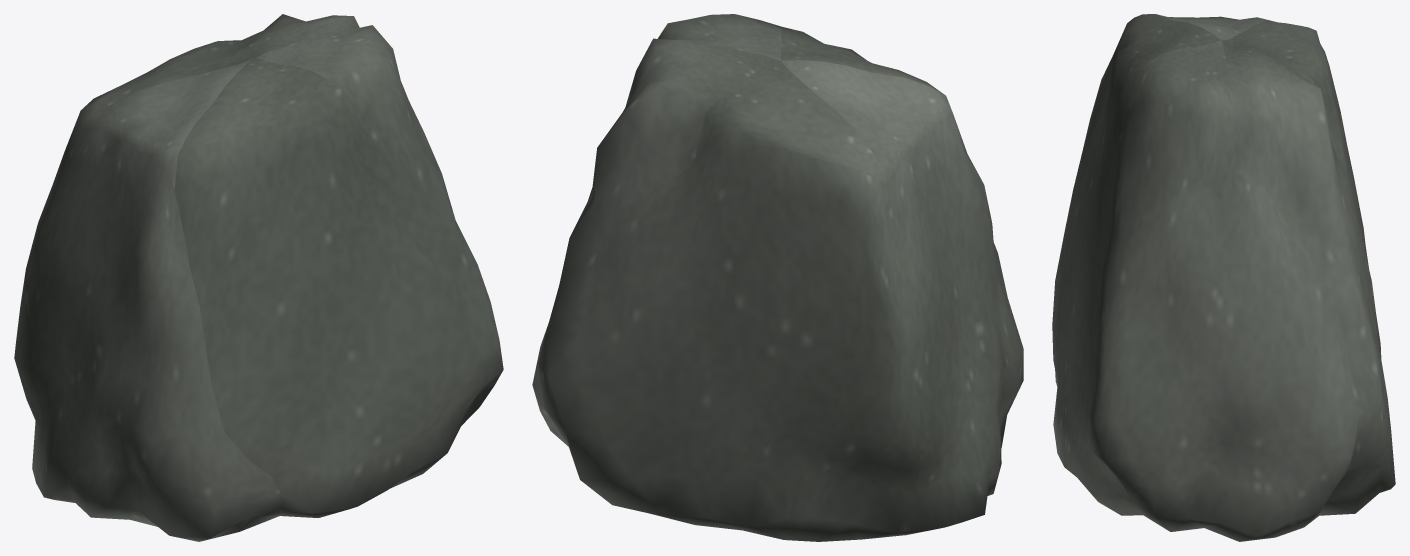
The model's file is NaturalRock_11_Trapezoid.fbx.
3 renders of one model, left to right at view 1: azimuth 30°, elevation 25°; view 2: azimuth 150°, elevation 25°; view 3: azimuth 270°, elevation 25°, orthographic. The views are drawn at different scales.
Visible parts, largest first — view 1: Rock_Main; view 2: Rock_Main; view 3: Rock_Main.
Boxes of the visible parts, box(x1,y1,x2,y2) form: Rock_Main: box(14, 14, 503, 541); Rock_Main: box(532, 14, 1023, 541); Rock_Main: box(1052, 14, 1395, 541).
Size of the model in its own units: 2.34 by 2.32 by 1.7.
Materials: 1 (1 with a texture image).
